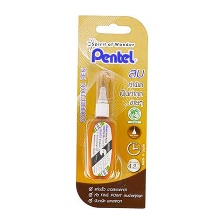book: (73, 12, 149, 212)
correction_fluid: (84, 72, 117, 182)
